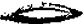Mouth: (0, 3, 84, 24)
